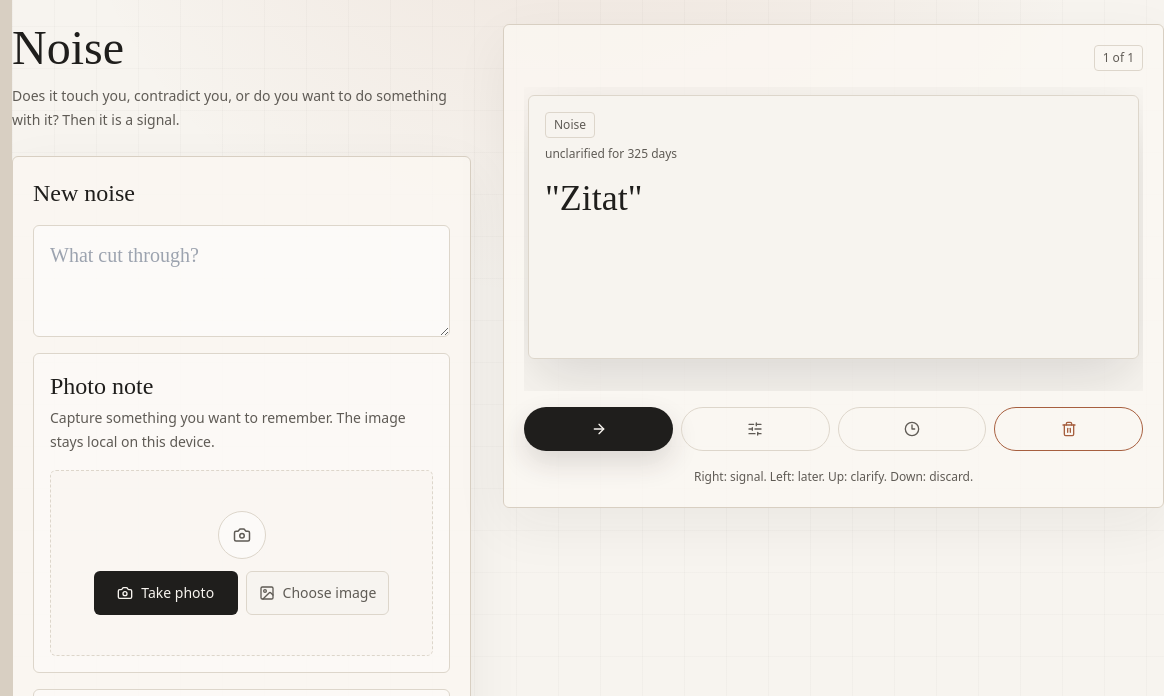
Scenario: InboxPage › Details › öffnet „Mehr Details“ automatisch, wenn Personen schon einen Wert hat
Check: the text "\"Zitat\"" is shown, box left=545, top=178, right=643, bottom=218
Click the button named "Clarify" at (755, 429), box left=681, top=407, right=830, bottom=451
(page scrolled)
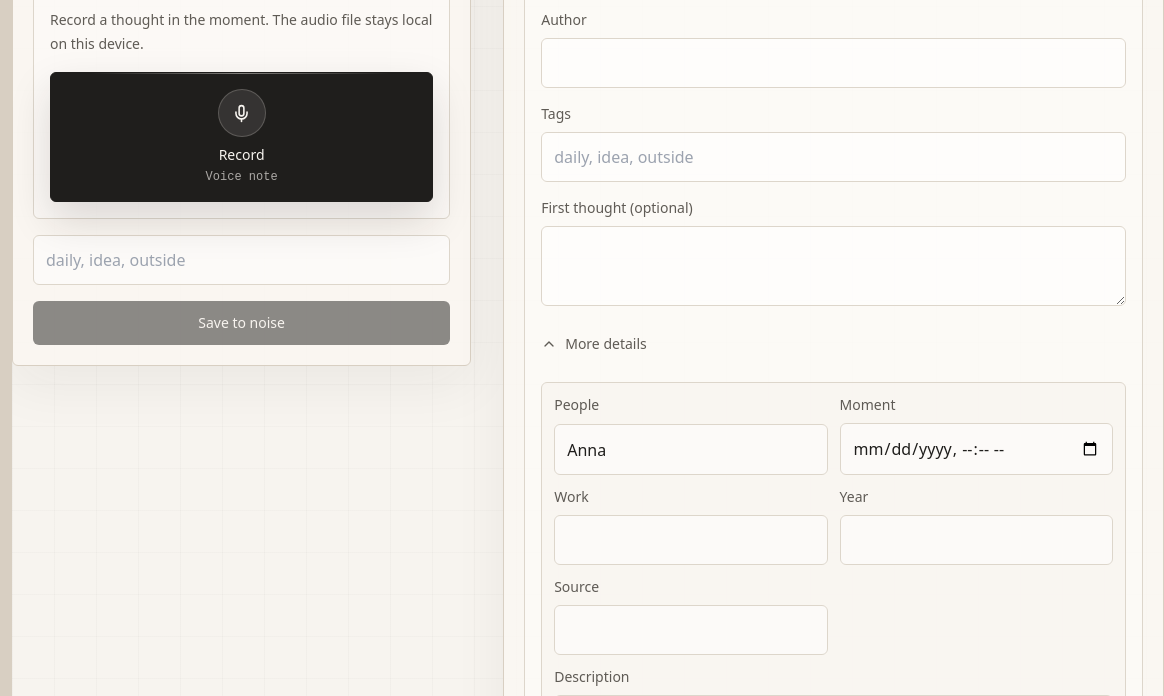
Check: the field labelled "People" holds "Anna", box left=554, top=424, right=828, bottom=475
